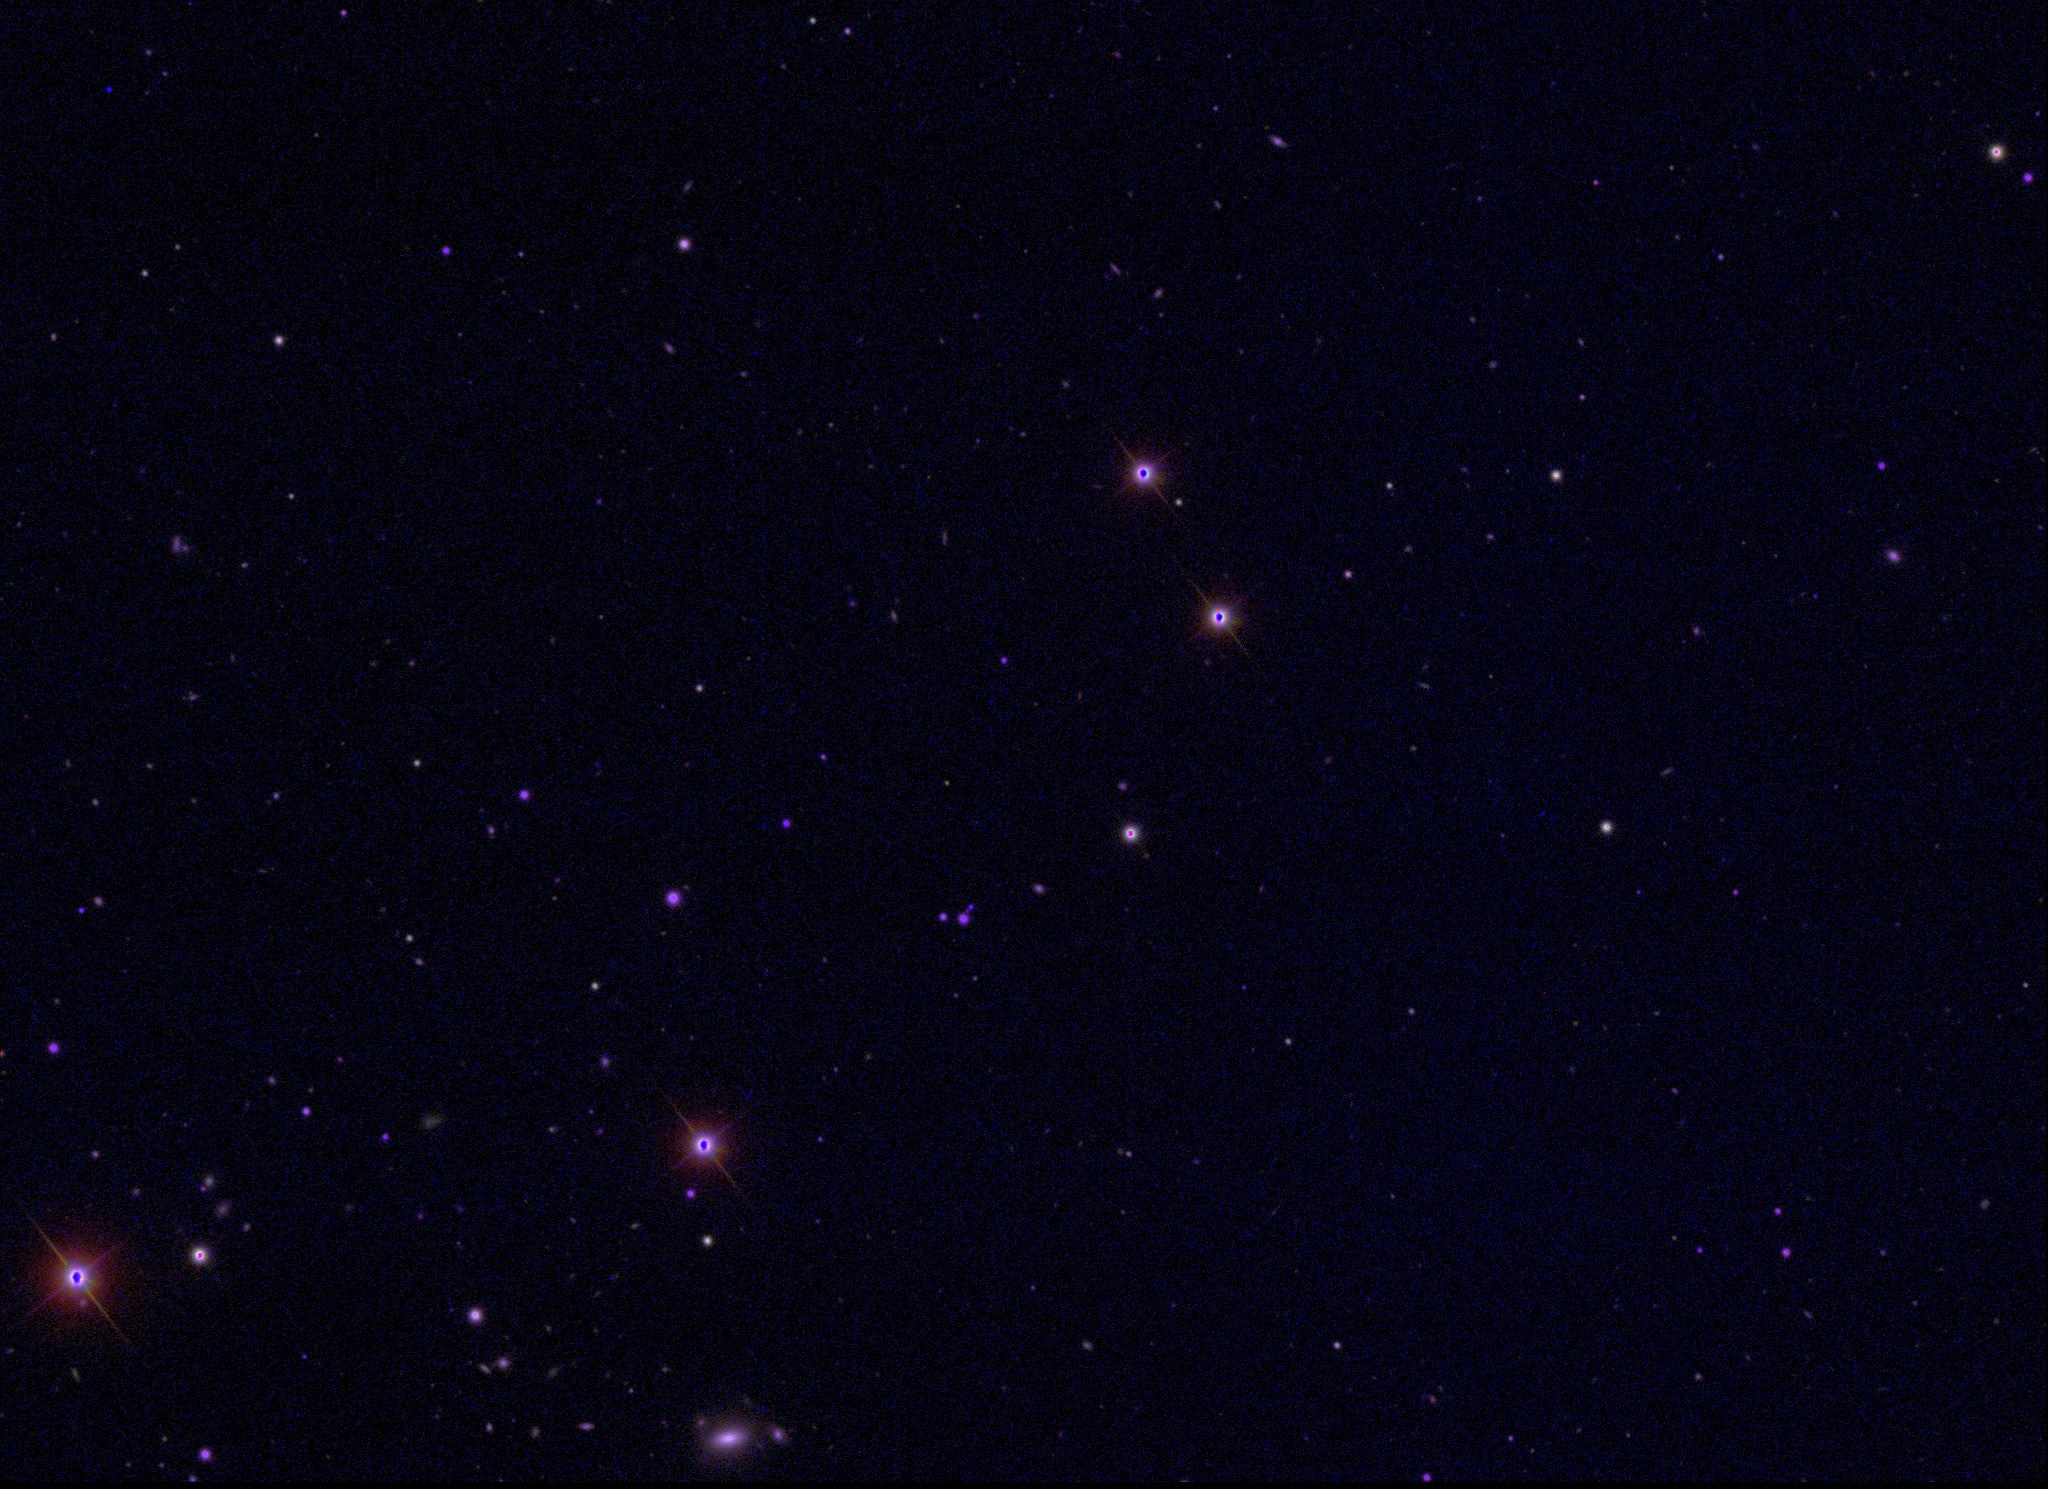L: (102, 84, 114, 99)
